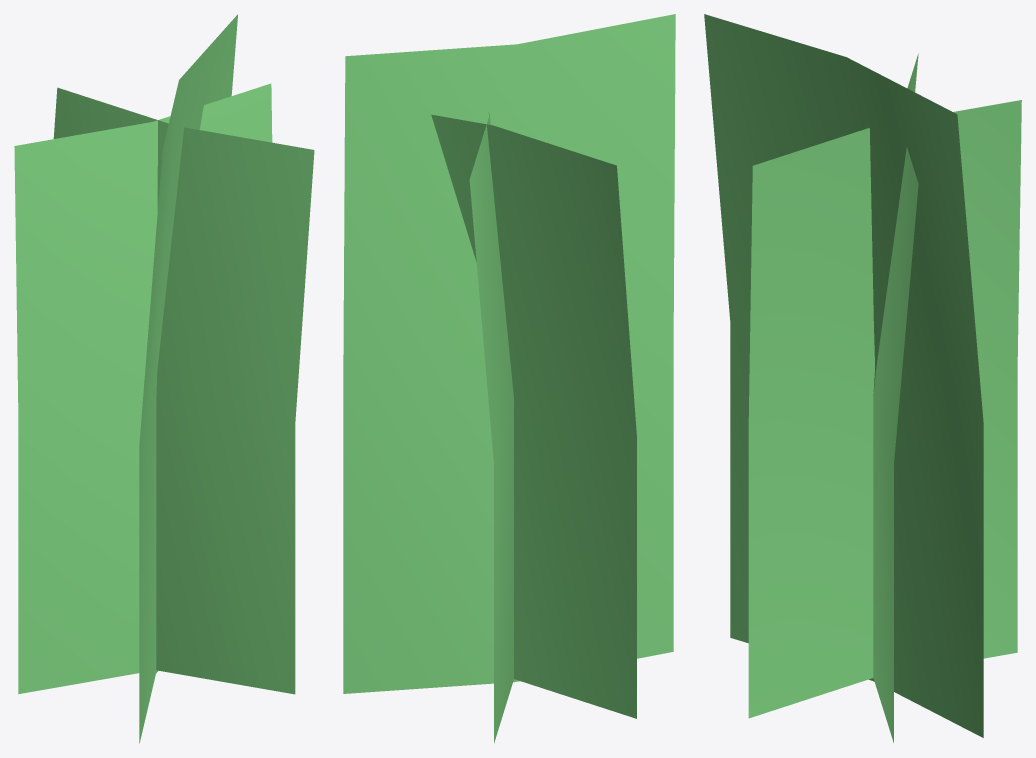
Rendered from GrassPlanes_a_TwoS_07.fbx.
The picture shows the model from 3 angles, left to right: view 1: azimuth 30°, elevation 25°; view 2: azimuth 150°, elevation 25°; view 3: azimuth 270°, elevation 25°; orthographic projection. The views are drawn at different scales.
Parts seen in each view (by area): view 1: GrassPlanes_a_TwoS_07; view 2: GrassPlanes_a_TwoS_07; view 3: GrassPlanes_a_TwoS_07.
Part boxes in pixels (left/top/right/bottom): GrassPlanes_a_TwoS_07: left=14, top=14, right=314, bottom=743; GrassPlanes_a_TwoS_07: left=343, top=14, right=675, bottom=743; GrassPlanes_a_TwoS_07: left=704, top=14, right=1021, bottom=742.
Size of the model in its own units: 29.72 by 64.43 by 29.48.
